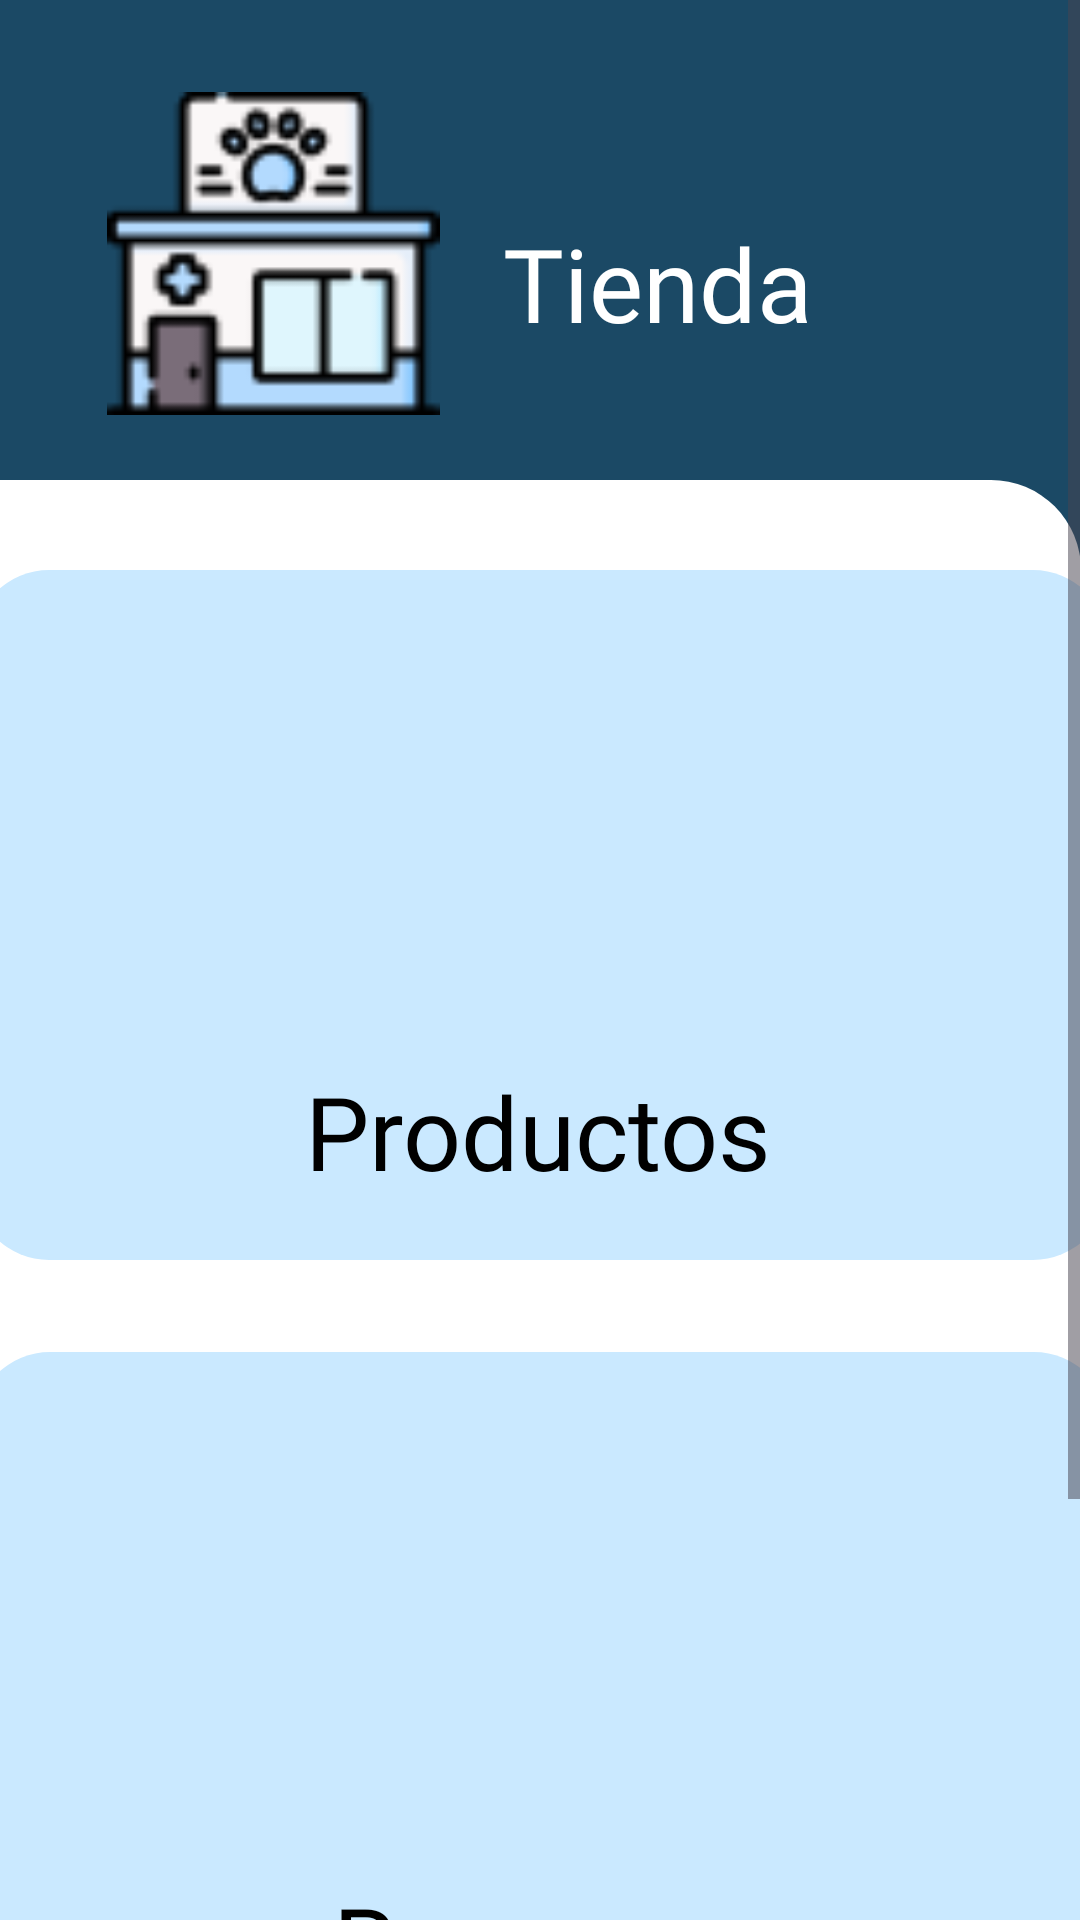

Icons on this 1080x1920 Android screen, each with the point to tap as [x,y]:
clinic: [273,253]
